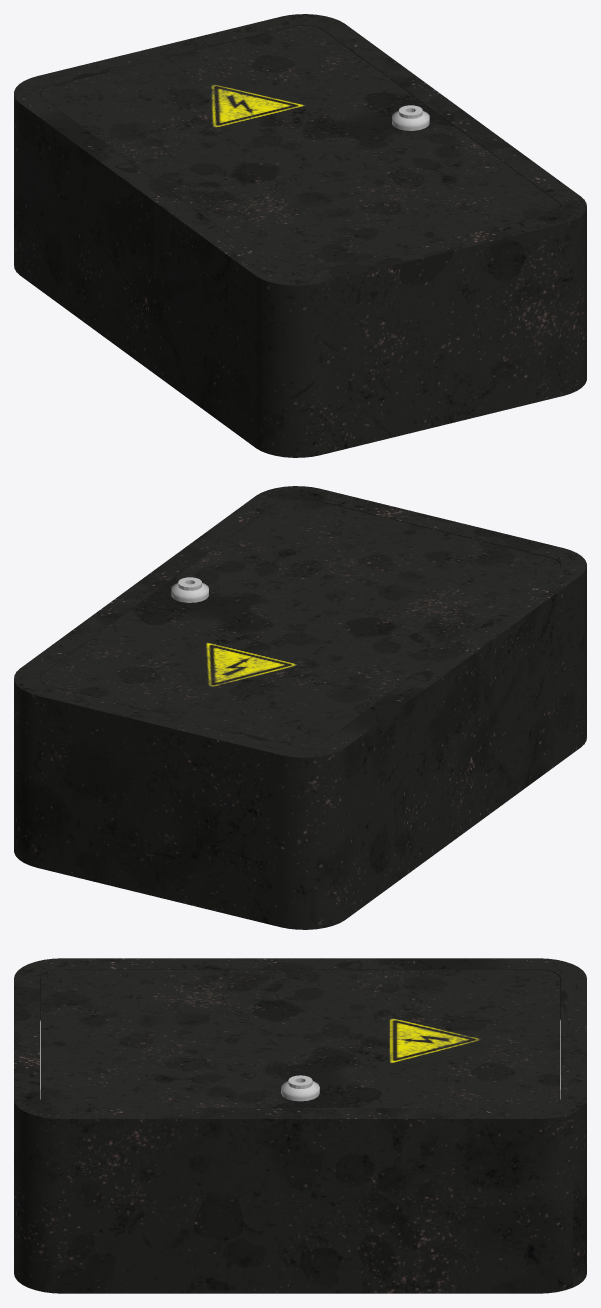
The model's file is ElectricBox.fbx.
3 views of the same model, one above another, from view 1: azimuth 30°, elevation 25°; view 2: azimuth 150°, elevation 25°; view 3: azimuth 270°, elevation 25° (orthographic).
Parts seen in each view (by area): view 1: Cube.002, Door, lock; view 2: Cube.002, Door, lock; view 3: Cube.002, Door, lock.
Part boxes in pixels (<box>): Cube.002: <box>14,14,586,457</box>; Door: <box>40,25,560,274</box>; lock: <box>392,105,429,130</box>; Cube.002: <box>14,486,586,929</box>; Door: <box>40,497,560,746</box>; lock: <box>171,577,208,602</box>; Cube.002: <box>14,958,586,1293</box>; Door: <box>40,969,560,1107</box>; lock: <box>281,1075,319,1101</box>.
Bounding box in the file's own units: 1 × 0.5451 × 1.51.
